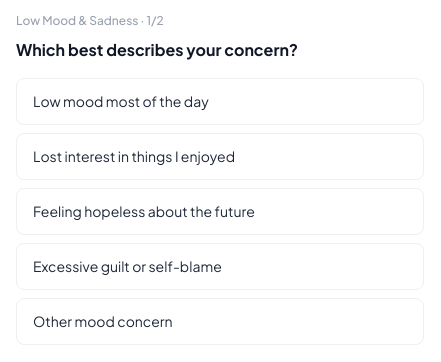
Scenario: InterviewFlow › moves to the red flag screen after selecting an option
Click the button "Low mood most of the day". click: (121,101)
box: [16, 78, 424, 125]
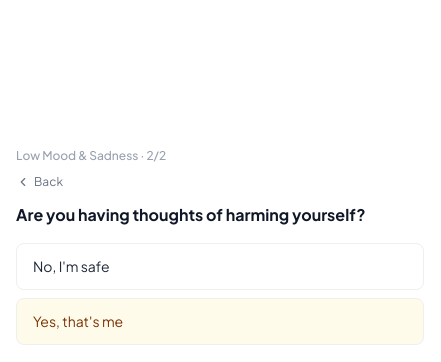
Result: the heading "Are you having thoughts of harming yourself?" is shown at [16, 203, 424, 227]
